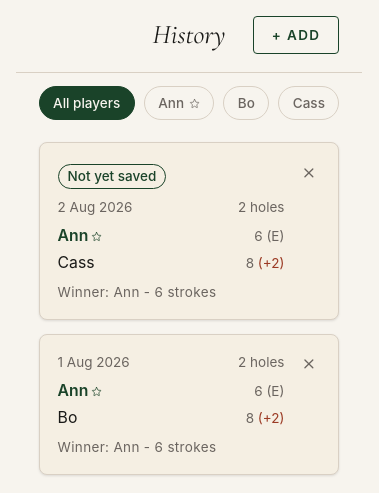
Test: History - merging pending rounds with the saved list › includes pending rounds' players in the player filter chips, and filters on them
The image size is (379, 493).
Click the 1st button "Cass" at (309, 103), box x1=278 y1=86 x2=339 y2=120
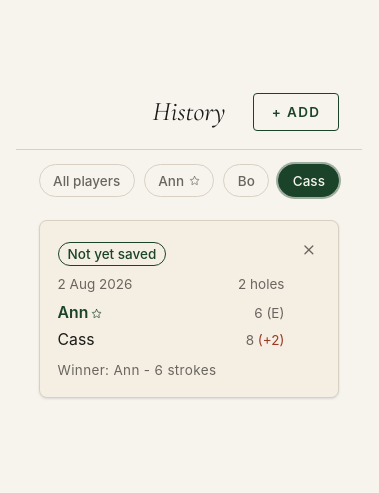
Expected: the number of buttons named "Open round" is 1, x1=40 y1=221 x2=338 y2=397
